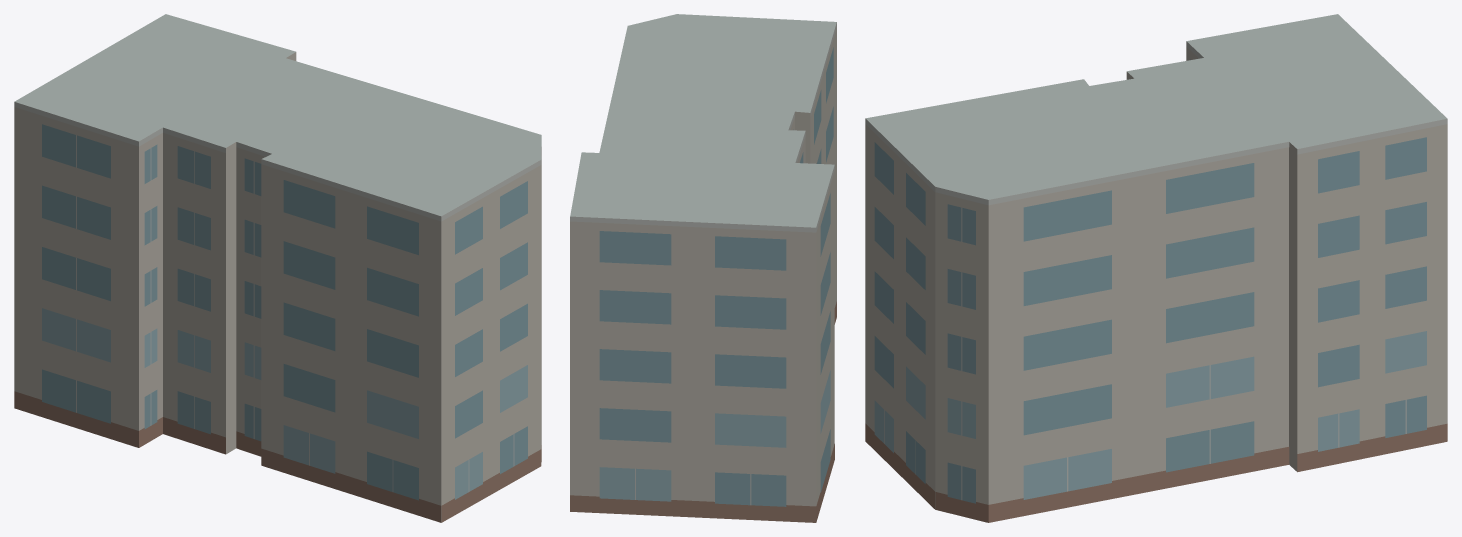
File: survey-upis-32679463.glb
The picture shows the model from 3 angles, left to right: view 1: azimuth 30°, elevation 25°; view 2: azimuth 150°, elevation 25°; view 3: azimuth 270°, elevation 25°; orthographic projection. The views are drawn at different scales.
Visible parts, largest first — view 1: survey-upis-32679463.tmp; view 2: survey-upis-32679463.tmp; view 3: survey-upis-32679463.tmp.
Boxes of the visible parts, <box> form: survey-upis-32679463.tmp: <box>14,14,541,522</box>; survey-upis-32679463.tmp: <box>570,14,836,522</box>; survey-upis-32679463.tmp: <box>865,14,1447,522</box>.
Size of the model in its own units: 17.91 by 14.5 by 23.7.
